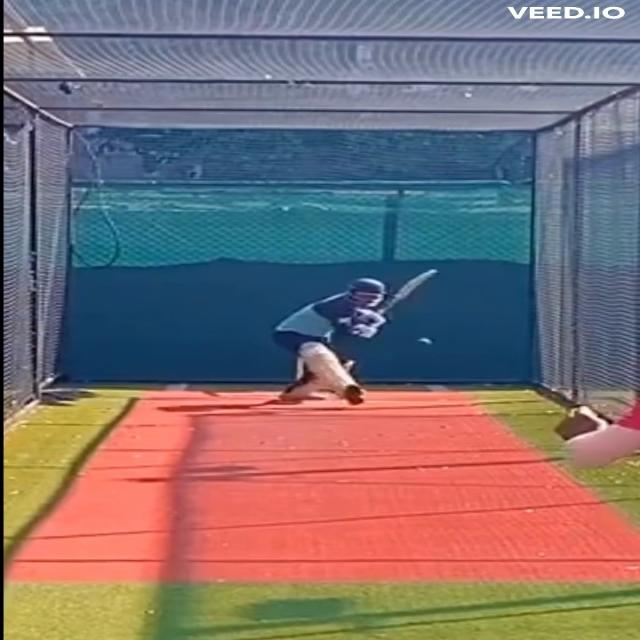ball: (414, 335, 438, 349)
